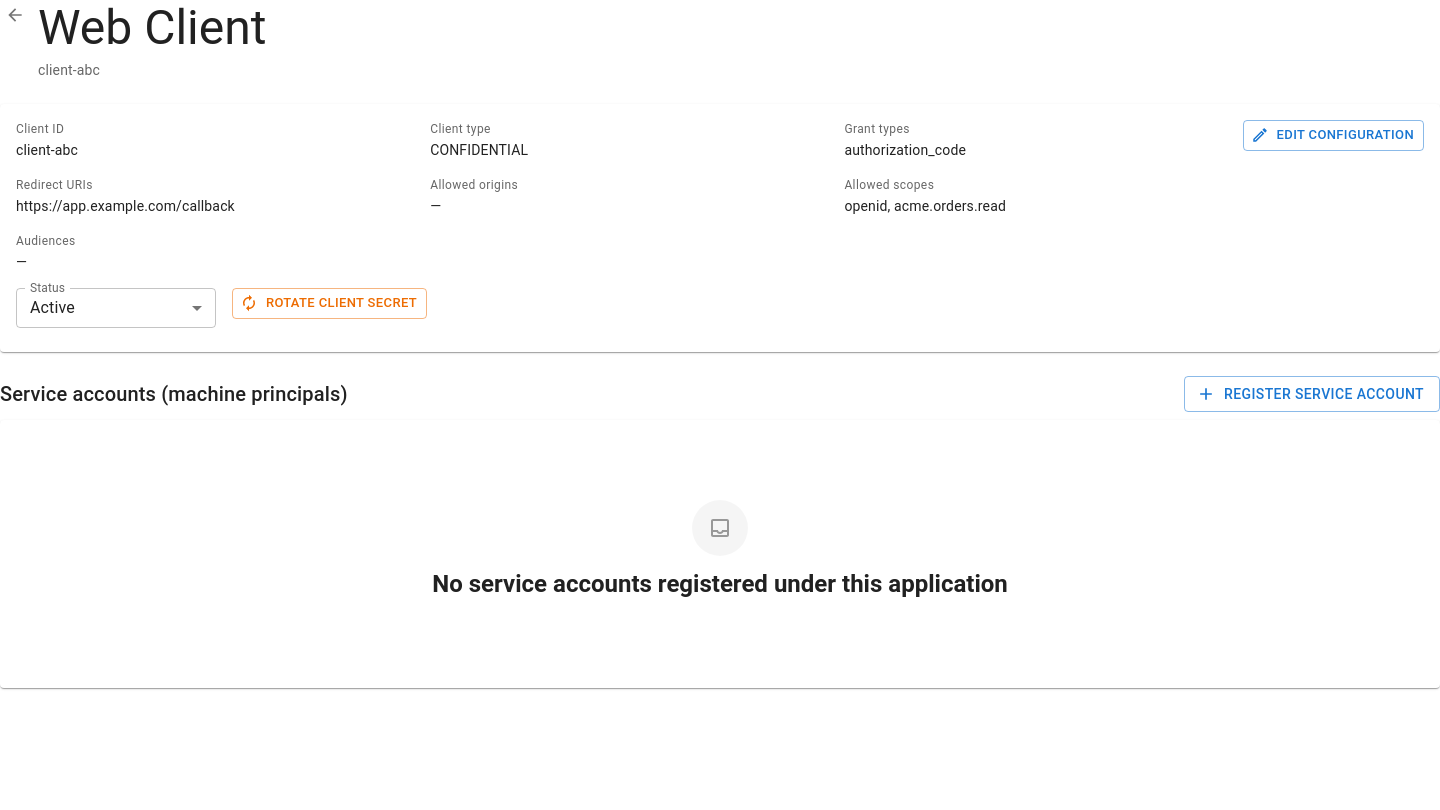
it: PlatformApplicationDetailPage — credential rotation › on confirm, rotates and shows the new secret exactly once — never persisted to any browser storage
Check: the heading "Web Client" is shown, box [38, 0, 266, 56]
Click the button "Rotate client secret". click: click(330, 303)
box: [232, 288, 427, 319]
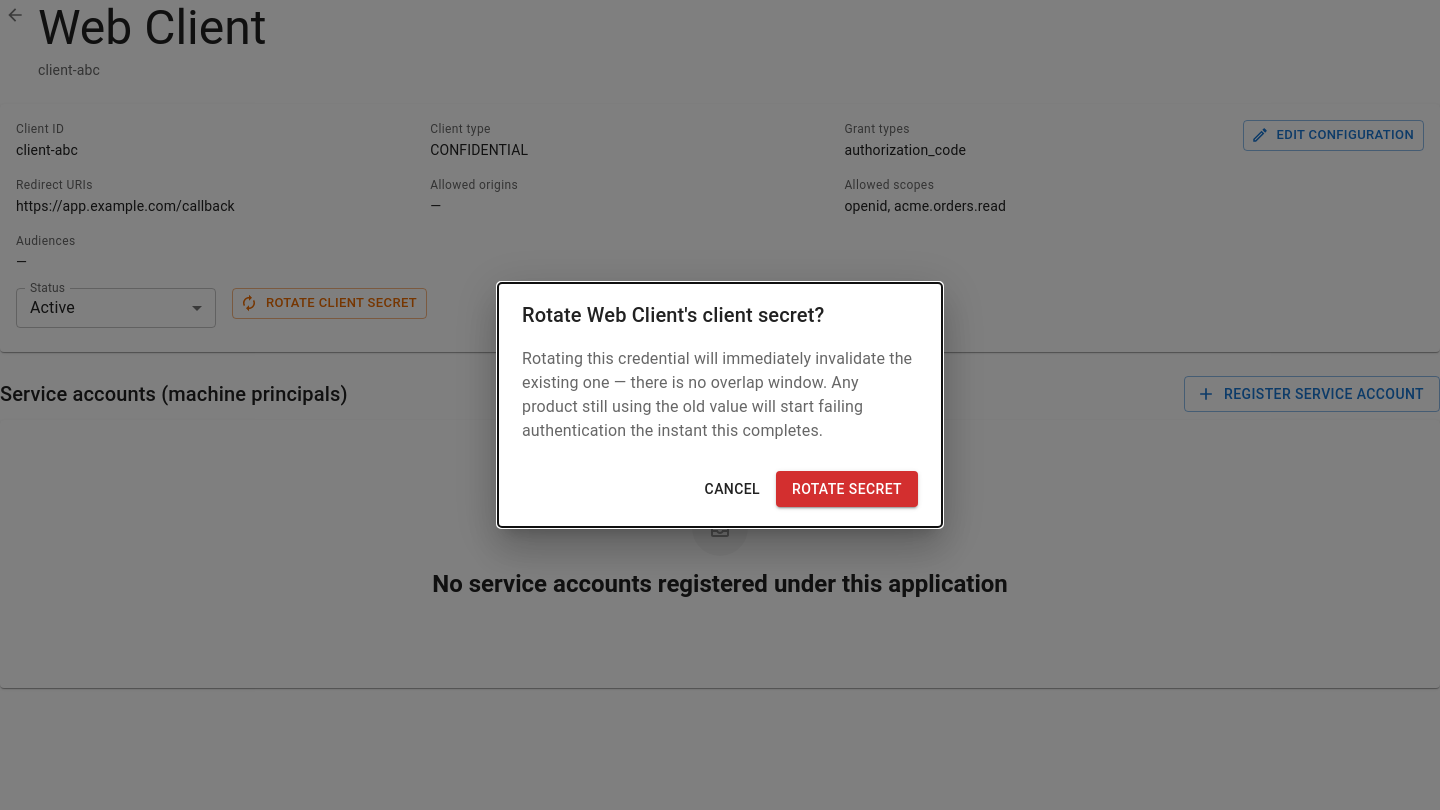
Click the button "Rotate secret". click: click(847, 489)
box: [776, 471, 918, 507]
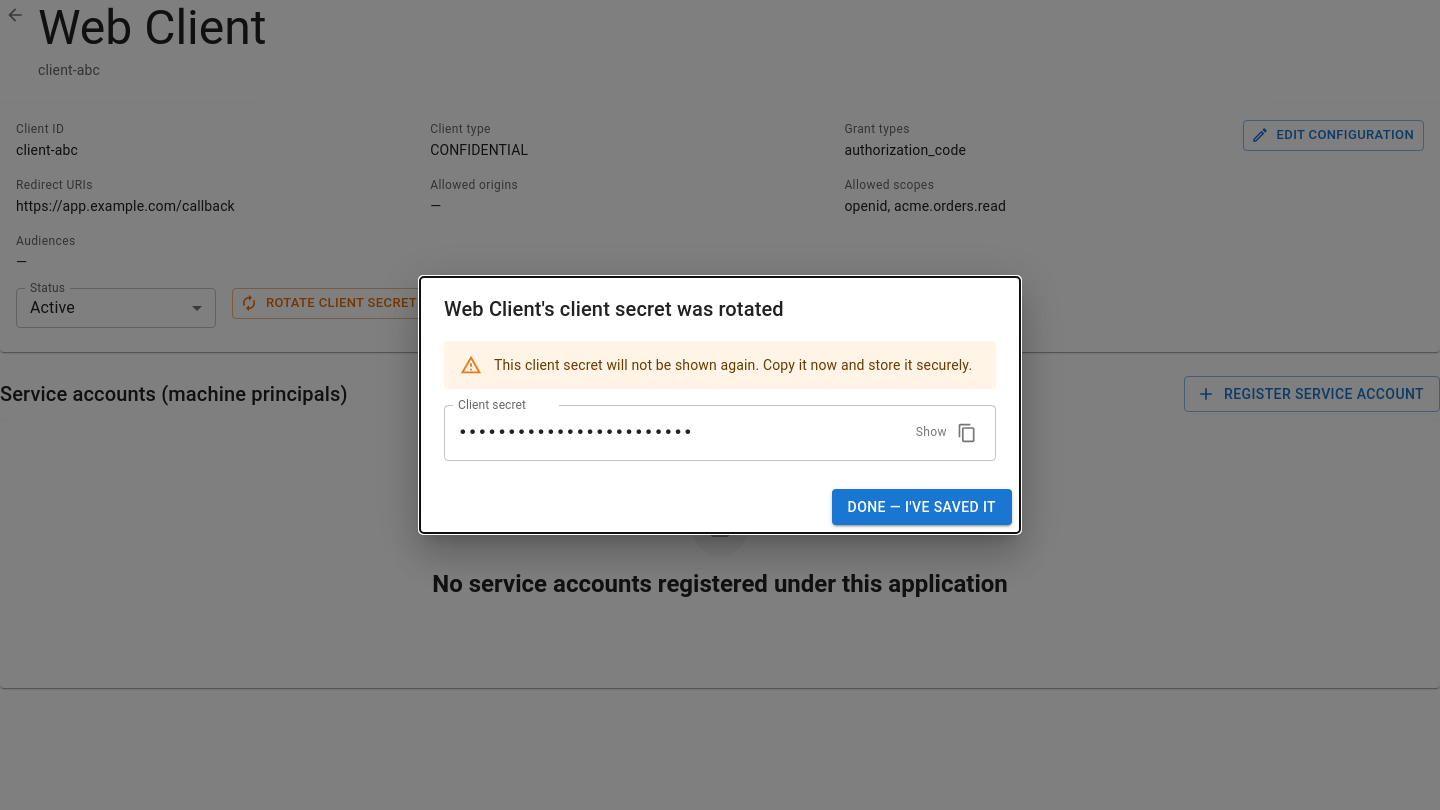
Check: the heading "Web Client's client secret was rotated" is shown, box [444, 297, 784, 321]
